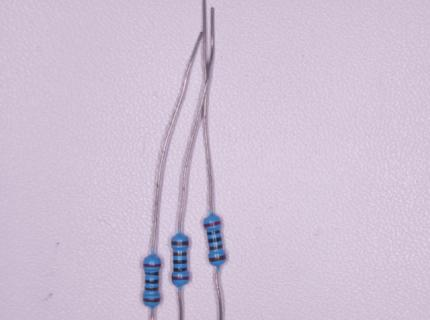Black band: (206, 229, 221, 236), (173, 259, 187, 265), (208, 237, 222, 243), (173, 267, 188, 272), (145, 279, 159, 284), (145, 271, 159, 276)
Brown band: (209, 255, 227, 263), (209, 244, 223, 251), (143, 298, 160, 303), (171, 241, 189, 245), (173, 252, 187, 256), (145, 287, 159, 291)
Red band: (203, 221, 221, 228), (142, 263, 161, 268), (172, 276, 189, 281)
